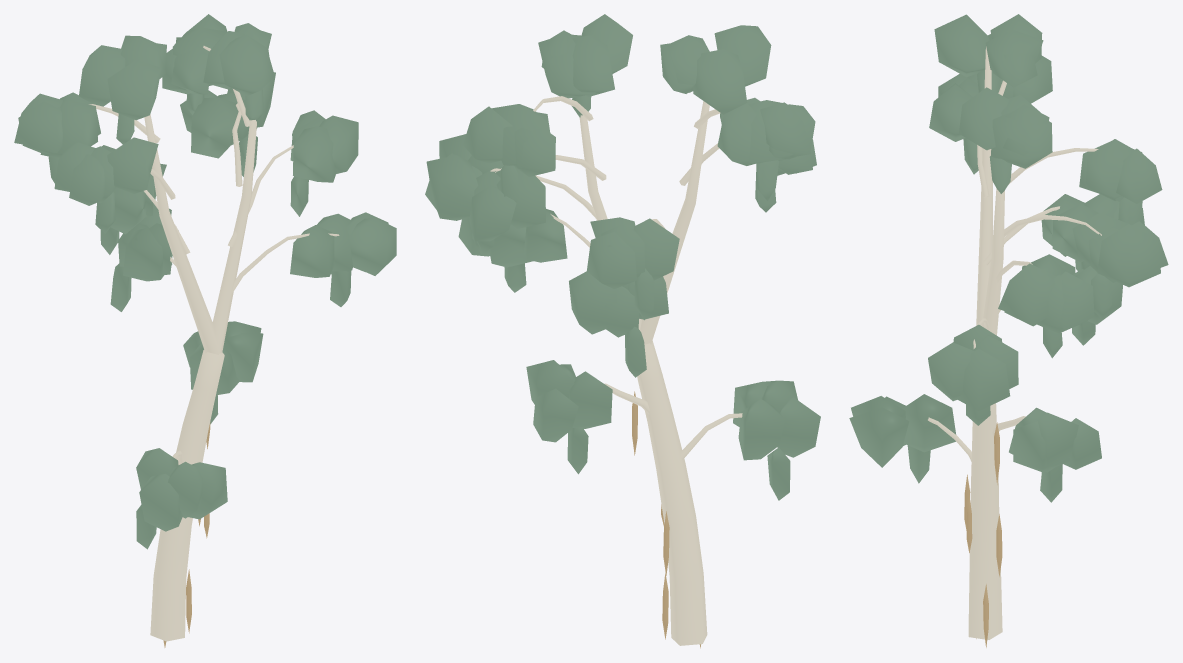
Rendered from Blender_Eucalyptus_2_Far.glb.
The picture shows the model from 3 angles, left to right: view 1: azimuth 30°, elevation 25°; view 2: azimuth 150°, elevation 25°; view 3: azimuth 270°, elevation 25°; orthographic projection. The views are drawn at different scales.
Parts seen in each view (by area): view 1: Blender_Eucalyptus_2_Far; view 2: Blender_Eucalyptus_2_Far; view 3: Blender_Eucalyptus_2_Far.
Part boxes in pixels (x1,y1,x2,y2): Blender_Eucalyptus_2_Far: (14,14,396,647); Blender_Eucalyptus_2_Far: (425,14,820,648); Blender_Eucalyptus_2_Far: (849,14,1168,647).
Bounding box in the file's own units: 17.56 × 28.14 × 13.42.
